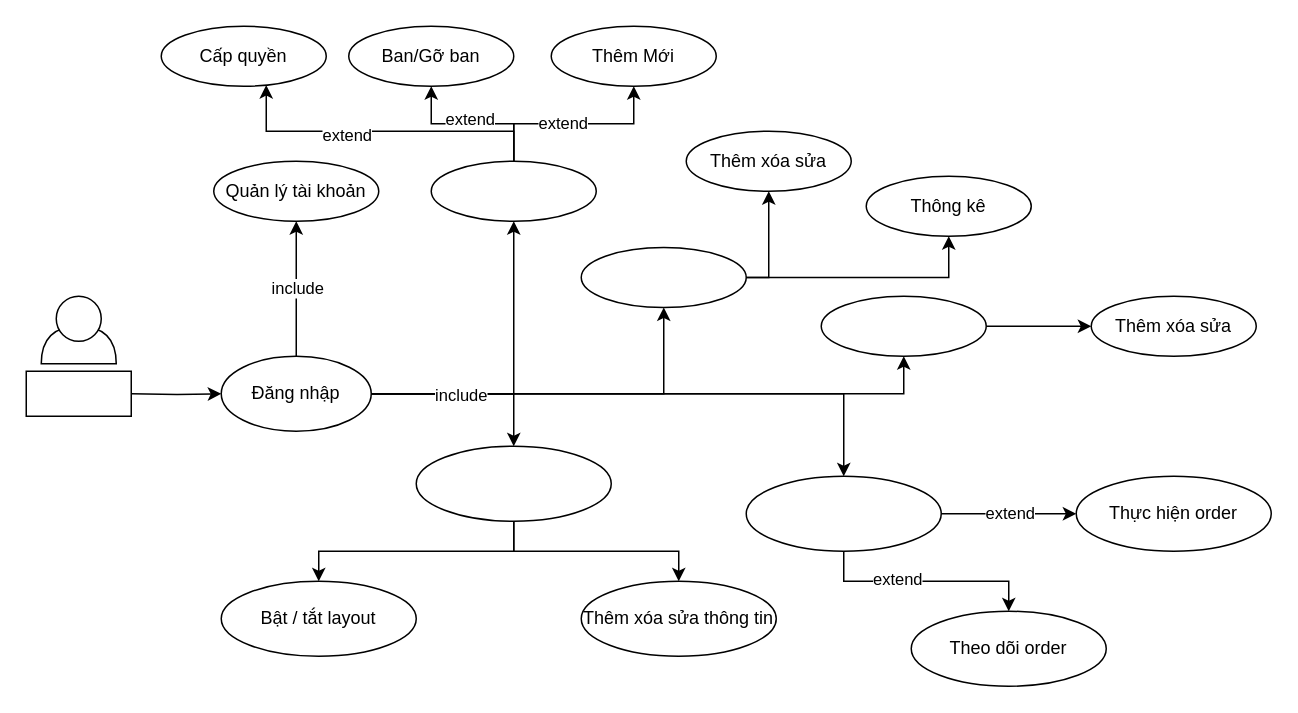
The diagram is 1298 pixels wide and 713 high, and some of its shapes have lost their labels. The centre of each missing label's shape, as x and y in pixels:
Admin: the point at 78,393
Quản lý danh mục: the point at 903,325
Quản lý order: the point at 843,513
Quản lý sản phẩm: the point at 663,277
Quản lý thông tin web: the point at 513,483
Quản lý user: the point at 513,190
